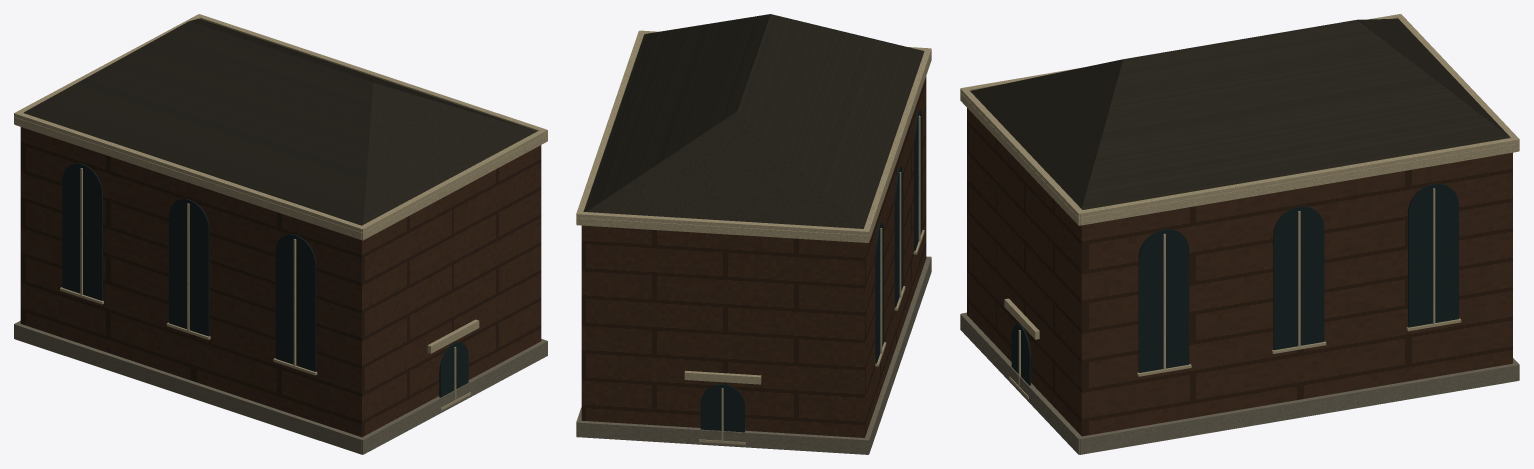
3 renders of one model, left to right at view 1: azimuth 30°, elevation 25°; view 2: azimuth 150°, elevation 25°; view 3: azimuth 270°, elevation 25°, orthographic. The views are drawn at different scales.
Parts seen in each view (by area): view 1: doopsgezinde-kerk-0, doopsgezinde-kerk-1, doopsgezinde-kerk-2, doopsgezinde-kerk-3, doopsgezinde-kerk-4; view 2: doopsgezinde-kerk-0, doopsgezinde-kerk-1, doopsgezinde-kerk-3, doopsgezinde-kerk-4, doopsgezinde-kerk-2; view 3: doopsgezinde-kerk-0, doopsgezinde-kerk-1, doopsgezinde-kerk-2, doopsgezinde-kerk-3, doopsgezinde-kerk-4.
Part boxes in pixels (x1=…): doopsgezinde-kerk-0: x1=20, y1=127, x2=541, y2=437; doopsgezinde-kerk-1: x1=24, y1=18, x2=537, y2=225; doopsgezinde-kerk-2: x1=62, y1=163, x2=468, y2=397; doopsgezinde-kerk-3: x1=14, y1=14, x2=547, y2=410; doopsgezinde-kerk-4: x1=14, y1=320, x2=547, y2=454; doopsgezinde-kerk-0: x1=581, y1=76, x2=926, y2=437; doopsgezinde-kerk-1: x1=583, y1=14, x2=923, y2=228; doopsgezinde-kerk-3: x1=576, y1=30, x2=931, y2=444; doopsgezinde-kerk-4: x1=576, y1=256, x2=931, y2=454; doopsgezinde-kerk-2: x1=700, y1=110, x2=922, y2=432; doopsgezinde-kerk-0: x1=967, y1=108, x2=1512, y2=436; doopsgezinde-kerk-1: x1=970, y1=18, x2=1510, y2=209; doopsgezinde-kerk-2: x1=1011, y1=183, x2=1458, y2=385; doopsgezinde-kerk-3: x1=960, y1=14, x2=1519, y2=399; doopsgezinde-kerk-4: x1=960, y1=312, x2=1519, y2=454.
Bounding box in the file's own units: 24.43 × 18 × 28.92.
Materials: 5 (5 with a texture image).
